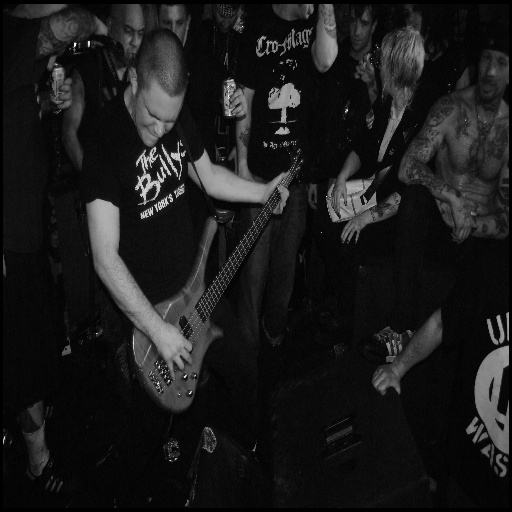hand: (369, 314, 440, 411), (154, 322, 193, 384), (262, 170, 290, 218), (450, 194, 476, 243), (44, 73, 72, 110), (353, 52, 377, 86), (331, 176, 348, 221), (227, 85, 247, 121), (339, 217, 364, 244), (438, 200, 454, 228), (305, 185, 317, 212), (234, 172, 254, 182)
